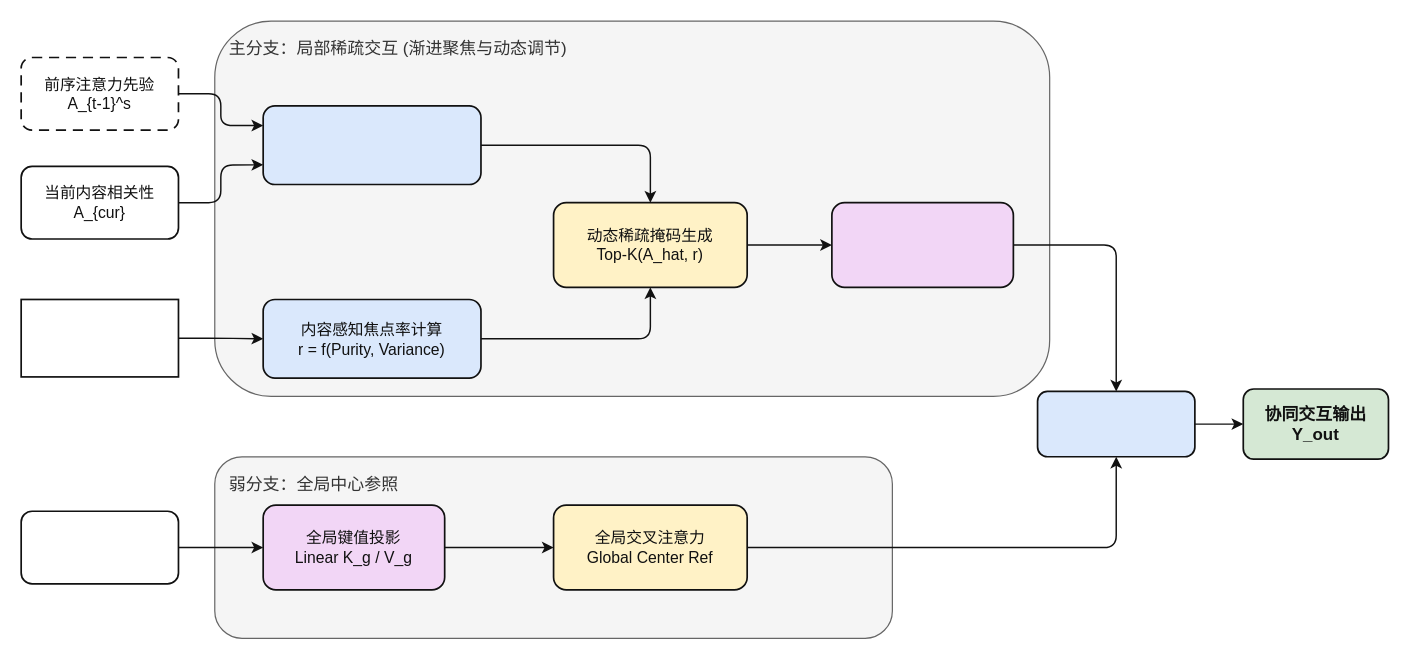
This 1411x659 diagram has some shape labels left out. Here are the shapes that lost their labels. From the top down, the centre of each, then its label:
point (371, 144): 注意力状态融合 β·A_{prev} + (1-β)·A_{cur}
point (922, 244): 局部稀疏注意力 Local Sparse Attn
point (99, 337): DPR 路由元信息 (Labels, Scores)
point (1115, 423): 尺度相关门控融合 Y_local + η·Y_global
point (99, 547): 动态语义原型 P_{global}
